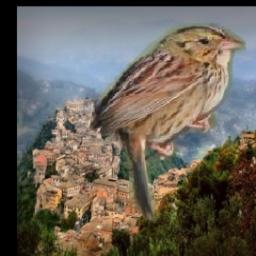Sparrow: (86, 23, 246, 225)
